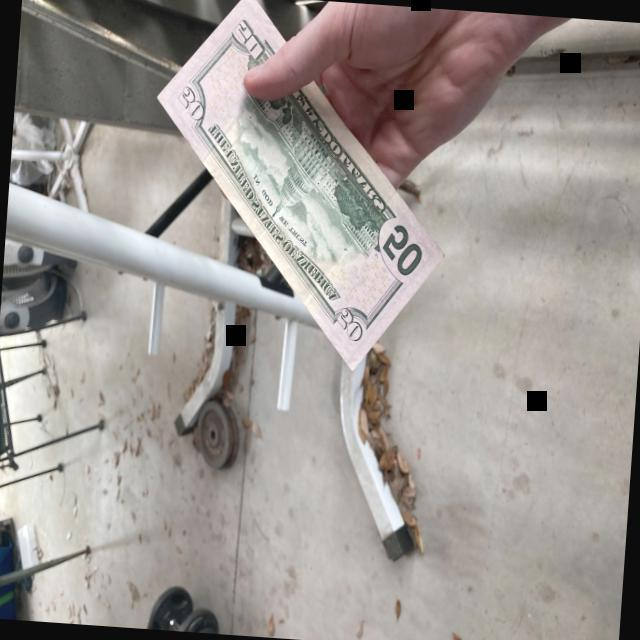fifty: (155, 0, 445, 369)
